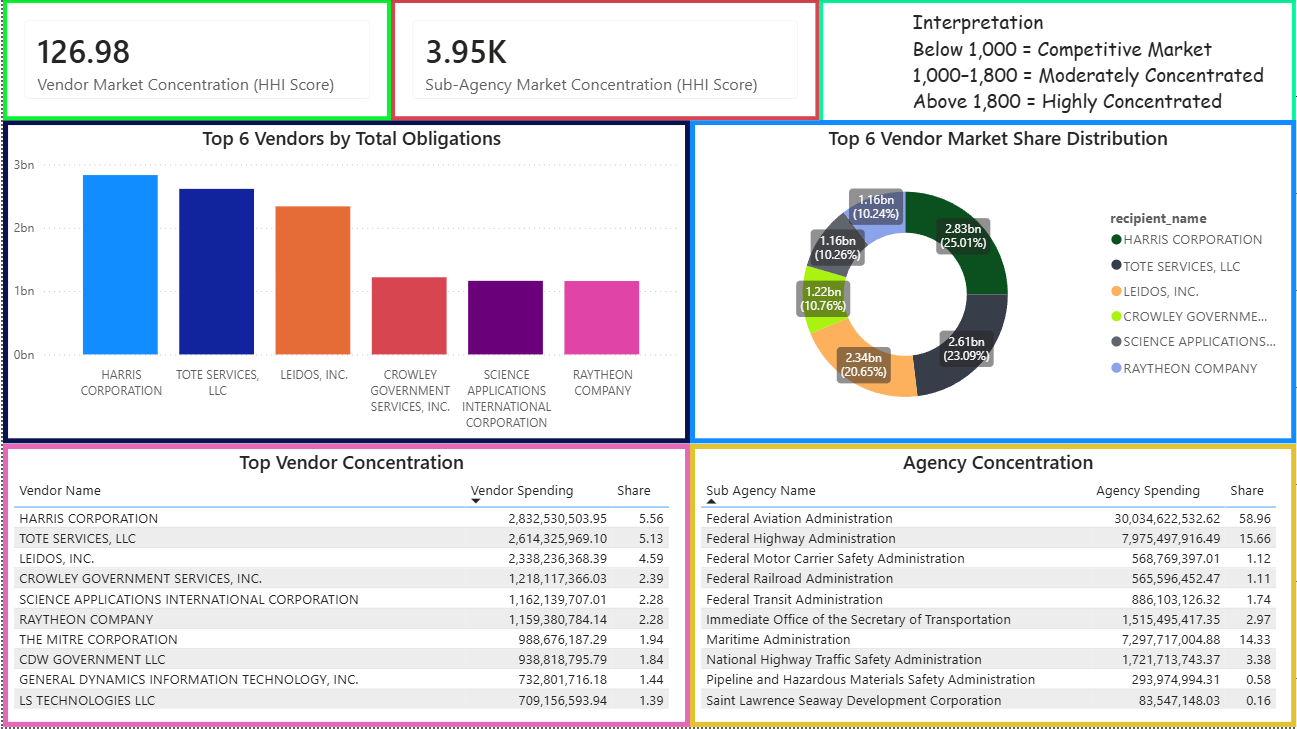

The page's visual inventory and layout, read from the dashboard file:
{"tool":"powerbi","page":{"name":"Vendor Spending & Market Concentration","canvas":[1280,720],"ordinal":1},"visuals":[{"type":"columnChart","title":"Top 6 Vendors by Total Obligations","fields":{"Category":["vw_TopVendors.recipient_name"],"Y":["vw_TopVendors.total_received_money"],"Series":["vw_TopVendors.recipient_name"]},"box":[0,120,680,320],"z":0},{"type":"cardVisual","fields":{"Data":["vw_HHI_Vendors.each_HHI"]},"box":[0,0,384,120],"z":1000},{"type":"textbox","box":[808,0,472,128],"z":2000},{"type":"donutChart","title":"Top 6 Vendor Market Share Distribution","fields":{"Category":["vw_HHI_Vendors.recipient_name"],"Y":["vw_HHI_Vendors.vendor_spending"]},"box":[680,120,600,320],"z":3000},{"type":"tableEx","title":"Top Vendor Concentration","fields":{"Values":["vw_HHI_Vendors.recipient_name","vw_HHI_Vendors.vendor_spending","vw_HHI_Vendors.Share"]},"box":[0,440,680,280],"z":4000},{"type":"cardVisual","fields":{"Data":["vw_HHI_Agency.each_HHI"]},"box":[384,0,424,120],"z":5000},{"type":"tableEx","title":"Agency Concentration","fields":{"Values":["vw_HHI_Agency.awarding_sub_agency_name","vw_HHI_Agency.agency_spending","vw_HHI_Agency.Share"]},"box":[680,440,600,280],"z":6000}]}

Visuals, with their boxes in screenshot pixels (x1, y1, x2, y2), scaled from the page's 1280x720 canvas onto the 1297x729 screenshot:
"Top 6 Vendors by Total Obligations" columnChart: 0/122/689/446
cardVisual - vw_HHI_Vendors.each_HHI: 0/0/389/122
textbox: 819/0/1296/130
"Top 6 Vendor Market Share Distribution" donutChart: 689/122/1296/446
"Top Vendor Concentration" tableEx: 0/446/689/728
cardVisual - vw_HHI_Agency.each_HHI: 389/0/819/122
"Agency Concentration" tableEx: 689/446/1296/728
